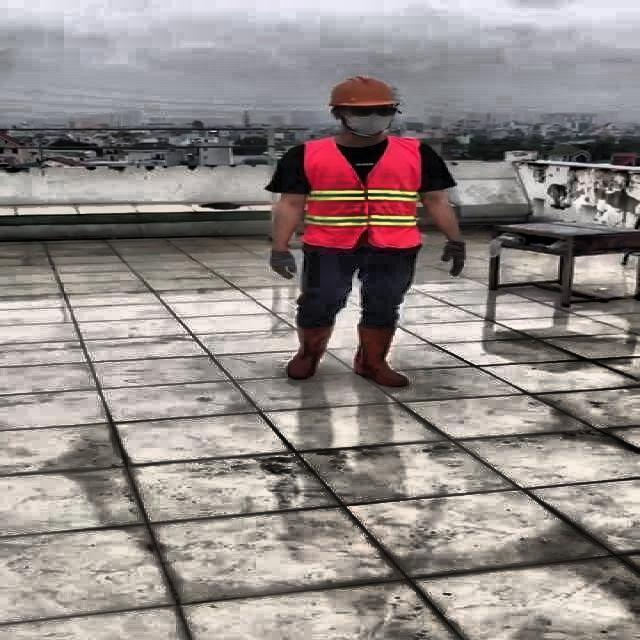safety_helmet: (322, 74, 400, 110)
safety_jacket: (301, 138, 424, 247)
